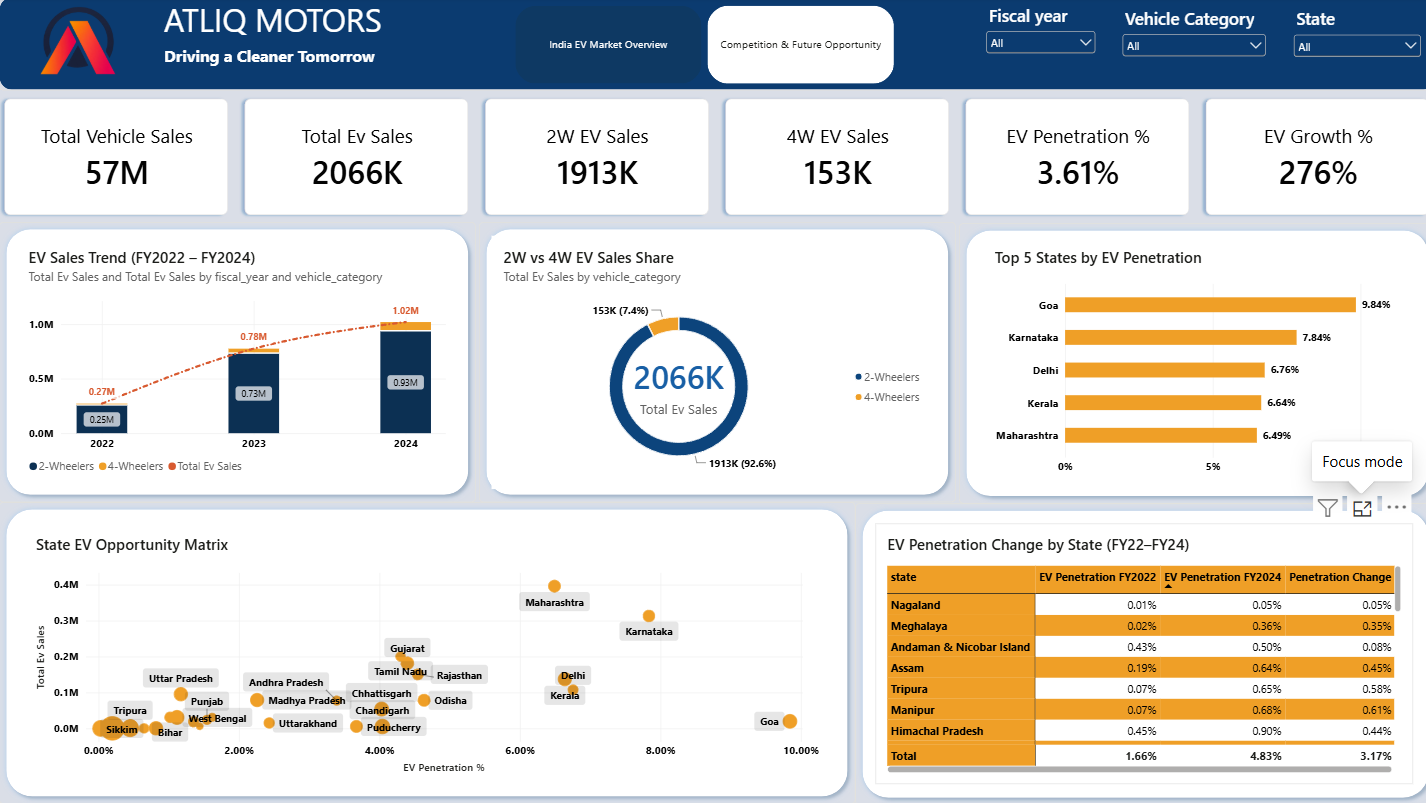

The page's visual inventory and layout, read from the dashboard file:
{"tool":"powerbi","page":{"name":"India EV Market Overview","canvas":[1920,1080],"ordinal":0},"visuals":[{"type":"shape","box":[1143.7,676.8,776.3,403.6],"z":0},{"type":"shape","box":[0,0,1920.1,124.9],"z":1000},{"type":"textbox","box":[0,0,1920.4,125.6],"z":2000},{"type":"textbox","box":[220.8,63.3,371,45.2],"z":3000},{"type":"image","box":[23.5,0,161.1,117.6],"z":4000},{"type":"slicer","fields":{"Values":["dim_date.fiscal_year"]},"box":[1313.8,0,155.6,124.9],"z":5000},{"type":"slicer","fields":{"Values":["fact_state_sales.vehicle_category"]},"box":[1496.6,0,200.9,124.9],"z":6000},{"type":"slicer","fields":{"Values":["fact_state_sales.state"]},"box":[1724.6,0,179,129],"z":7000},{"type":"cardVisual","fields":{"Data":["New Measures.Total Vehicle Sales","New Measures.Total Ev Sales","New Measures.2W EV Sales","New Measures.4W EV Sales","New Measures.EV Penetration %","New Measures.EV Growth %"]},"box":[0,128.5,1920.1,170.1],"z":8000},{"type":"shape","box":[0,300.4,637,374.6],"z":9000},{"type":"lineStackedColumnComboChart","title":"EV Sales Trend (FY2022 – FY2024)","fields":{"Category":["dim_date.fiscal_year"],"Series":["fact_state_sales.vehicle_category"],"Y":["New Measures.Total Ev Sales"],"Y2":["New Measures.Total Ev Sales"]},"box":[23.5,318.5,589.9,338.4],"z":10000},{"type":"shape","box":[640.6,300.4,637,374.6],"z":11000},{"type":"donutChart","title":"2W vs 4W EV Sales Share","fields":{"Category":["fact_state_sales.vehicle_category"],"Y":["New Measures.Total Ev Sales"]},"box":[658.7,318.5,597.2,338.4],"z":12000},{"type":"shape","box":[1283,302.2,637,374.6],"z":13000},{"type":"clusteredBarChart","title":"Top 5 States by EV Penetration","fields":{"Category":["fact_state_sales.state"],"Y":["New Measures.EV Penetration %"]},"box":[1313.8,318.5,575.5,338.4],"z":14000},{"type":"shape","box":[0,675,1143.7,403.6],"z":15000},{"type":"scatterChart","title":"State EV Opportunity Matrix","fields":{"Category":["fact_state_sales.state"],"Size":["New Measures.EV Sales CAGR"],"X":["New Measures.EV Penetration %"],"Y":["New Measures.Total Ev Sales"]},"box":[32.6,702.1,1080.4,349.3],"z":17000},{"type":"pivotTable","title":"EV Penetration Change by State (FY22–FY24)","fields":{"Rows":["fact_state_sales.state"],"Values":["New Measures.EV Penetration FY2022","New Measures.EV Penetration FY2024","New Measures.Penetration Change"]},"box":[1170.9,702.1,718.4,349.3],"z":17500},{"type":"pageNavigator","box":[689.5,10.9,506.7,105],"z":17502}]}

Visuals, with their boxes in screenshot pixels (x1, y1, x2, y2), scaled from the page's 1920x1080 canvas onto the 1426x803 screenshot:
shape: (849,503,1425,802)
shape: (0,0,1425,93)
textbox: (0,0,1425,93)
textbox: (164,47,440,81)
image: (17,0,137,87)
slicer - dim_date.fiscal_year: (976,0,1091,93)
slicer - fact_state_sales.vehicle_category: (1112,0,1261,93)
slicer - fact_state_sales.state: (1281,0,1414,96)
cardVisual - New Measures.Total Vehicle Sales x New Measures.Total Ev Sales: (0,96,1425,222)
shape: (0,223,473,502)
"EV Sales Trend (FY2022 – FY2024)" lineStackedColumnComboChart: (17,237,456,488)
shape: (476,223,949,502)
"2W vs 4W EV Sales Share" donutChart: (489,237,933,488)
shape: (953,225,1425,503)
"Top 5 States by EV Penetration" clusteredBarChart: (976,237,1403,488)
shape: (0,502,849,802)
"State EV Opportunity Matrix" scatterChart: (24,522,827,782)
"EV Penetration Change by State (FY22–FY24)" pivotTable: (870,522,1403,782)
pageNavigator: (512,8,888,86)
